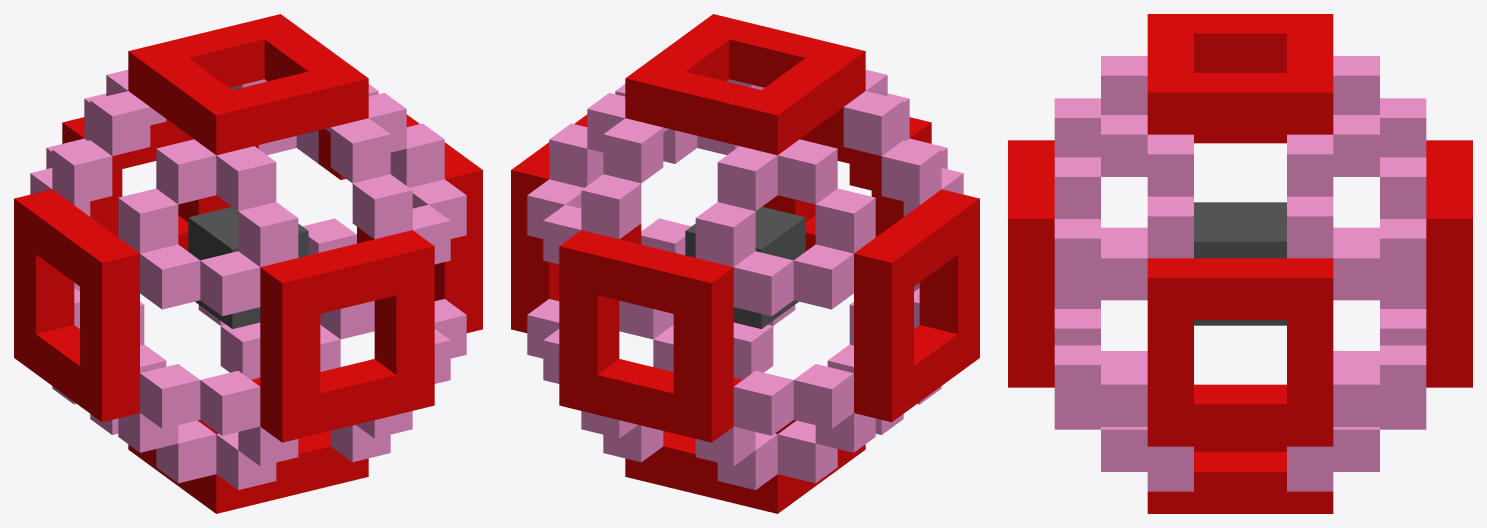
Rendered from R2ball.obj.
3 renders of one model, left to right at view 1: azimuth 30°, elevation 25°; view 2: azimuth 150°, elevation 25°; view 3: azimuth 270°, elevation 25°, orthographic. The views are drawn at different scales.
Bounding box in the file's own units: 10 × 10 × 10.
